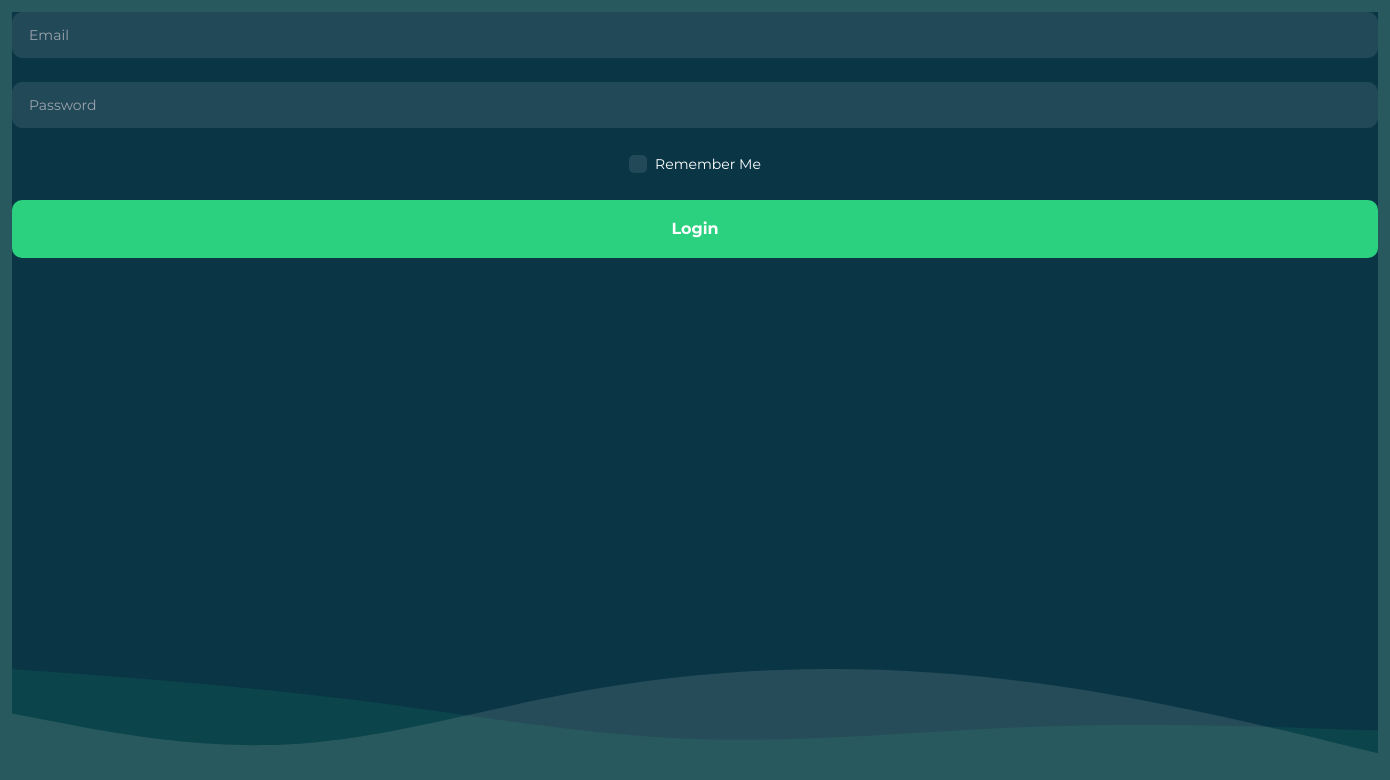
SigninForm Component › should display an error message when submission fails
Type "test@example.com" into the field with placeholder "Email".
click(695, 35); type("test@example.com")  # box [12, 12, 1378, 58]
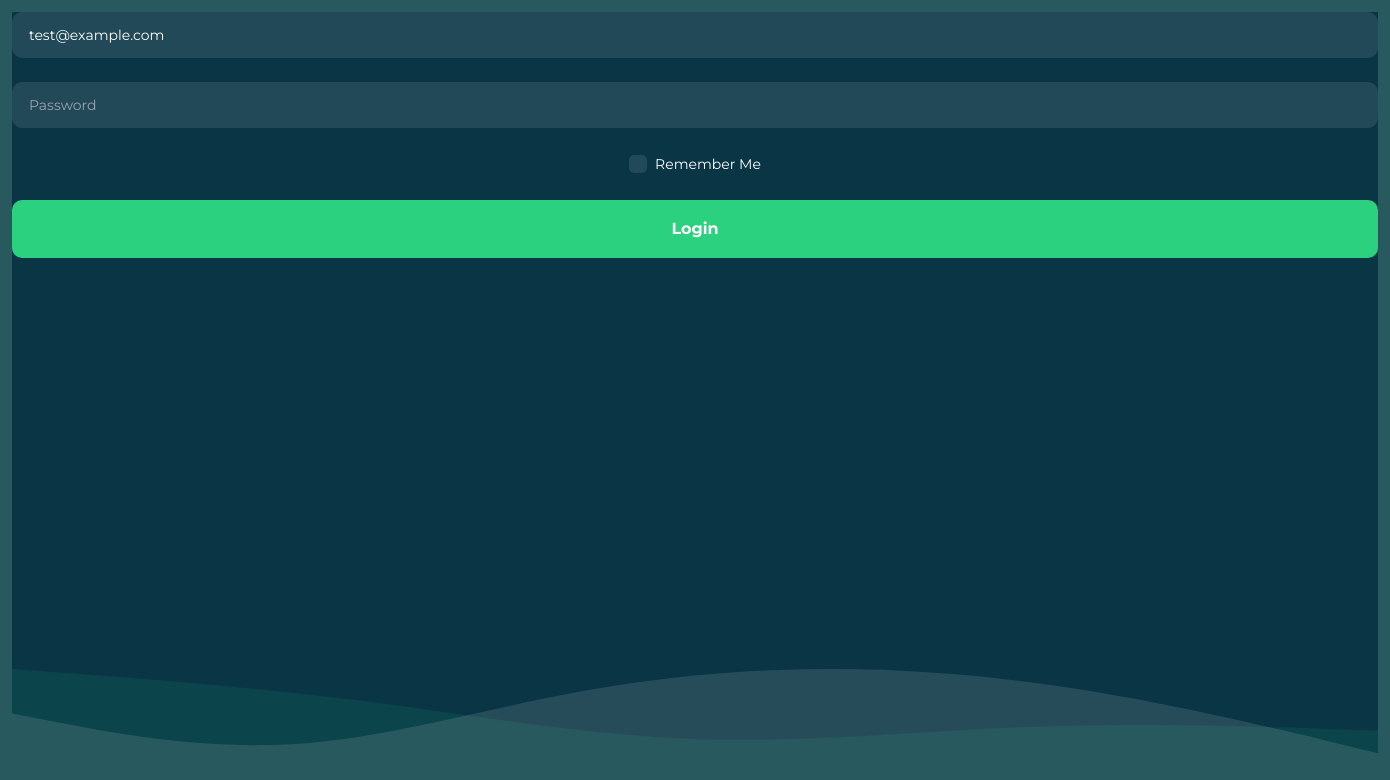
Type "password123" into the password field with placeholder "Password".
click(695, 105); type("password123")  # box [12, 82, 1378, 128]
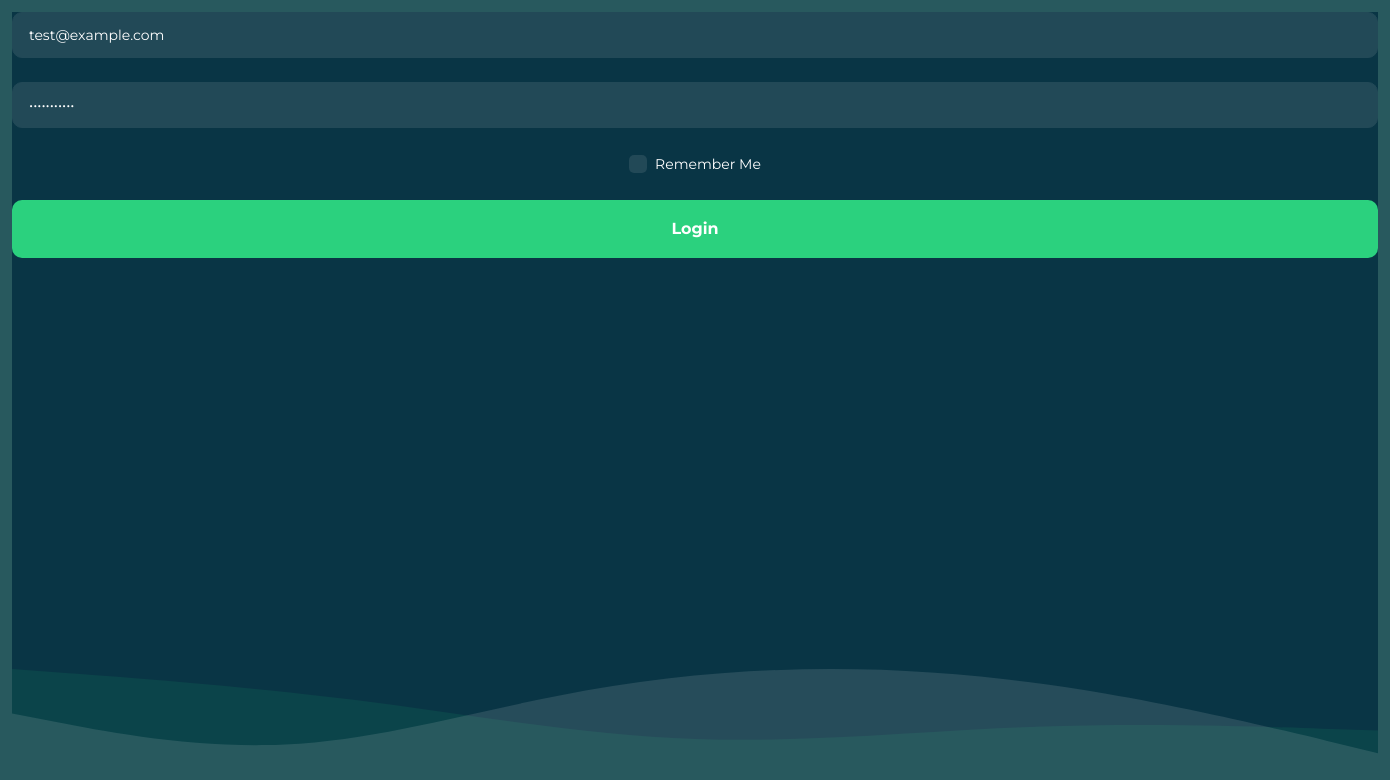
Click the button "Login".
click(695, 229)  # box [12, 200, 1378, 258]
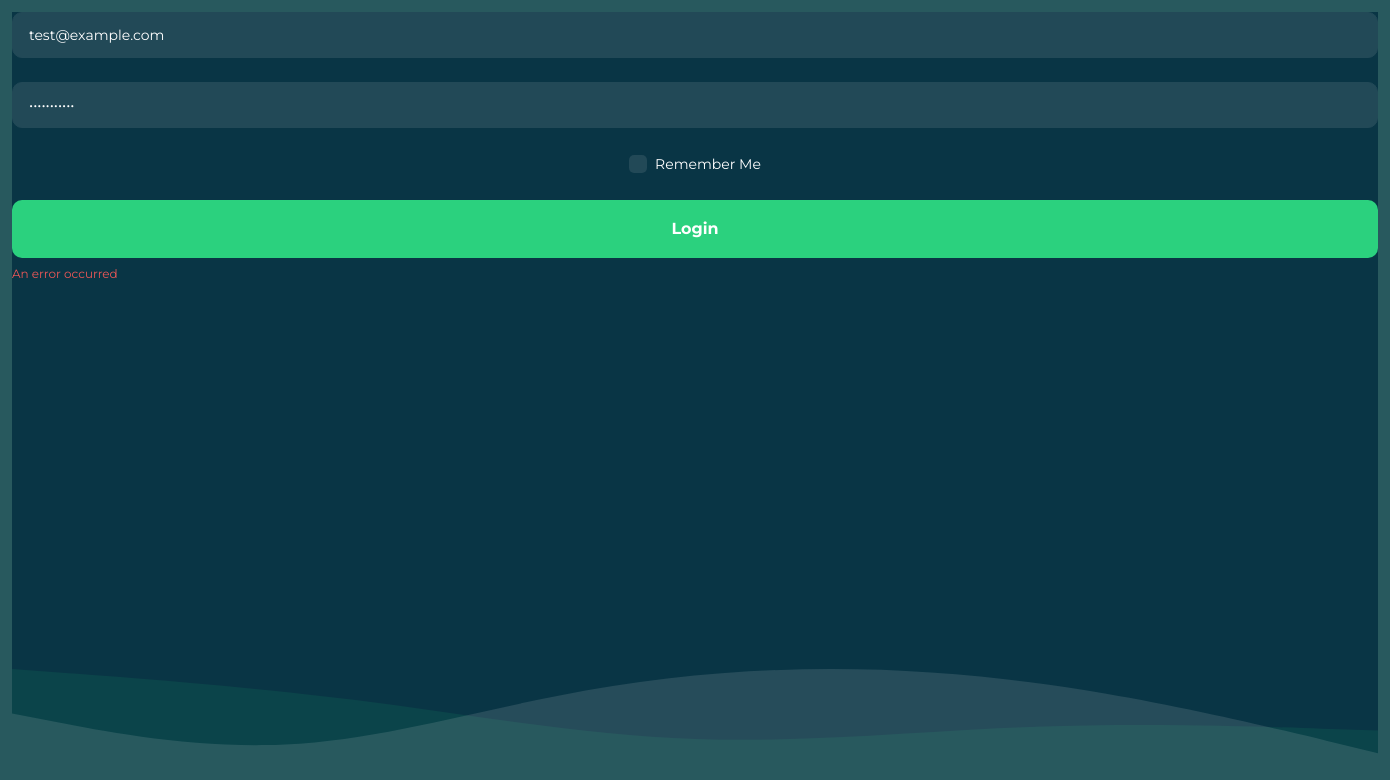
Result: the text "An error occurred" is shown at [12, 266, 118, 281]
